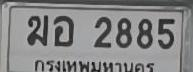2: (93, 16, 111, 47)
5: (157, 18, 174, 48)
8: (115, 16, 131, 46), (136, 18, 152, 48)
A06: (26, 14, 48, 45)
A43: (53, 15, 73, 46)
BKK: (31, 58, 156, 72)
